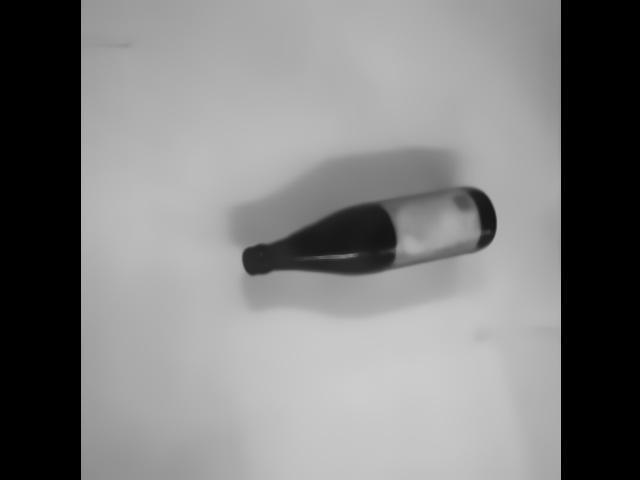Glass: (240, 178, 503, 276)
